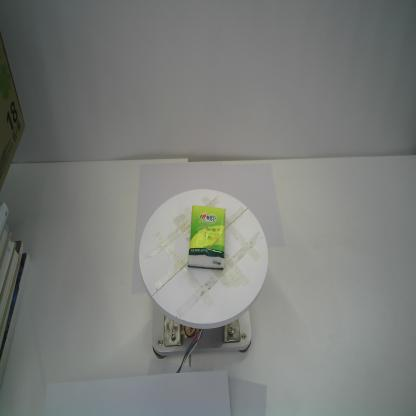Tissue: (187, 204, 227, 270)
